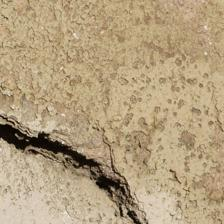Crack: (2, 57, 141, 164)
